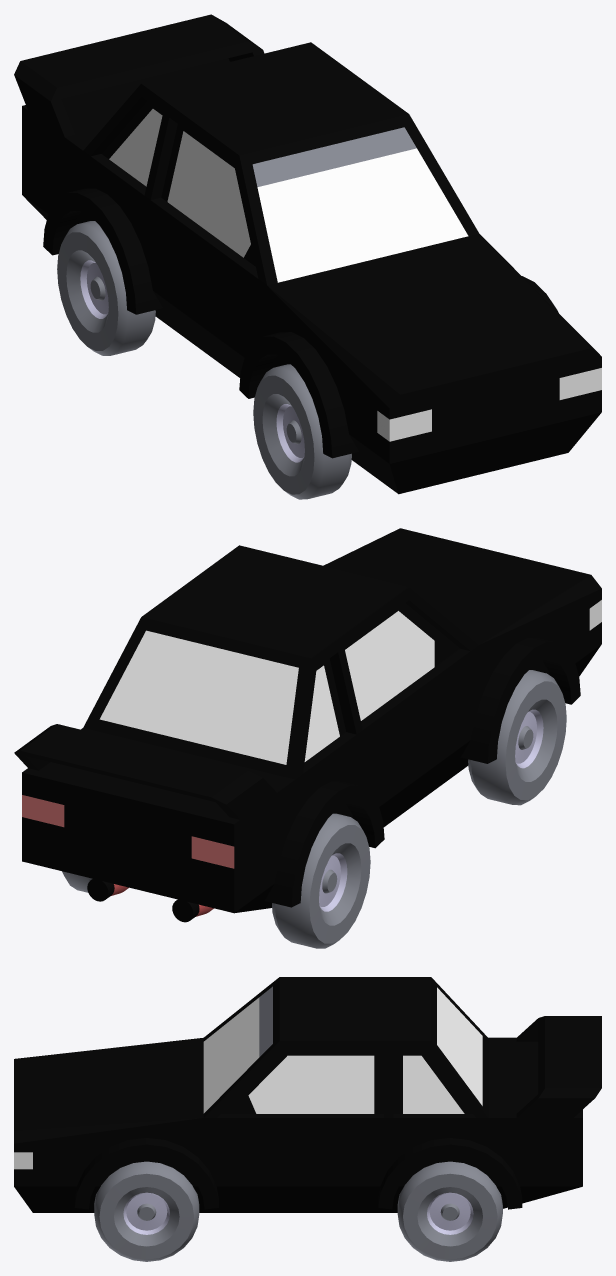
Rendered from CarModel.fbx.
3 renders of one model, top to bottom at view 1: azimuth 30°, elevation 25°; view 2: azimuth 150°, elevation 25°; view 3: azimuth 270°, elevation 25°, orthographic. The views are drawn at different scales.
Visible parts, largest first — view 1: Revolution2024ModelCar; view 2: Revolution2024ModelCar; view 3: Revolution2024ModelCar.
Part boxes in pixels (x1=…): Revolution2024ModelCar: x1=14, y1=14, x2=601, y2=499; Revolution2024ModelCar: x1=14, y1=528, x2=601, y2=948; Revolution2024ModelCar: x1=14, y1=977, x2=601, y2=1261.
Size of the model in its own units: 119 by 121 by 310.
